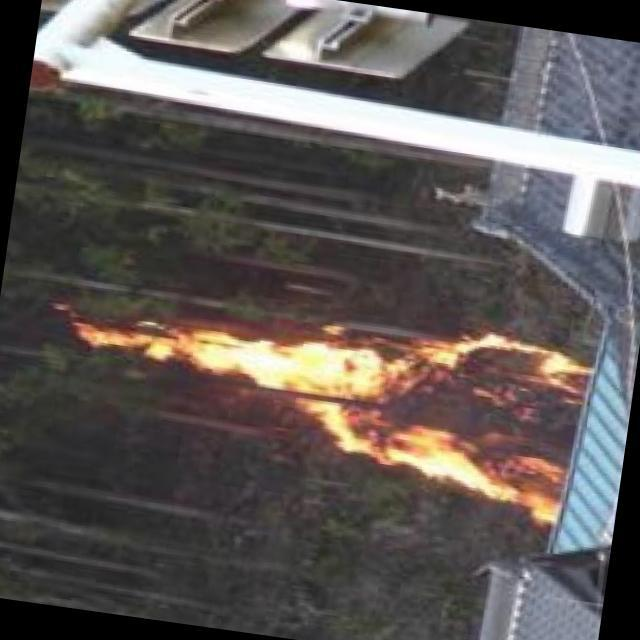Fire: (74, 276, 600, 518)
